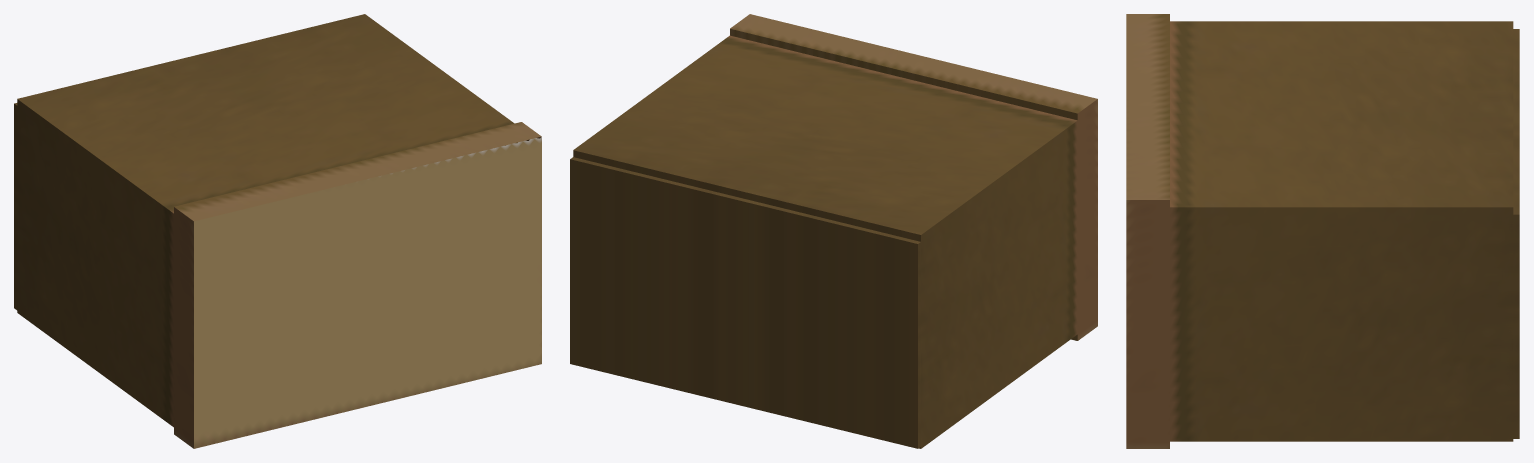
Rendered from pz_counter_birchwood_floor.obj.
3 views of the same model, side by side, from view 1: azimuth 30°, elevation 25°; view 2: azimuth 150°, elevation 25°; view 3: azimuth 270°, elevation 25° (orthographic). The views are drawn at different scales.
Size of the model in its own units: 1 by 0.6266 by 0.895.
1 material, 1 textured.
